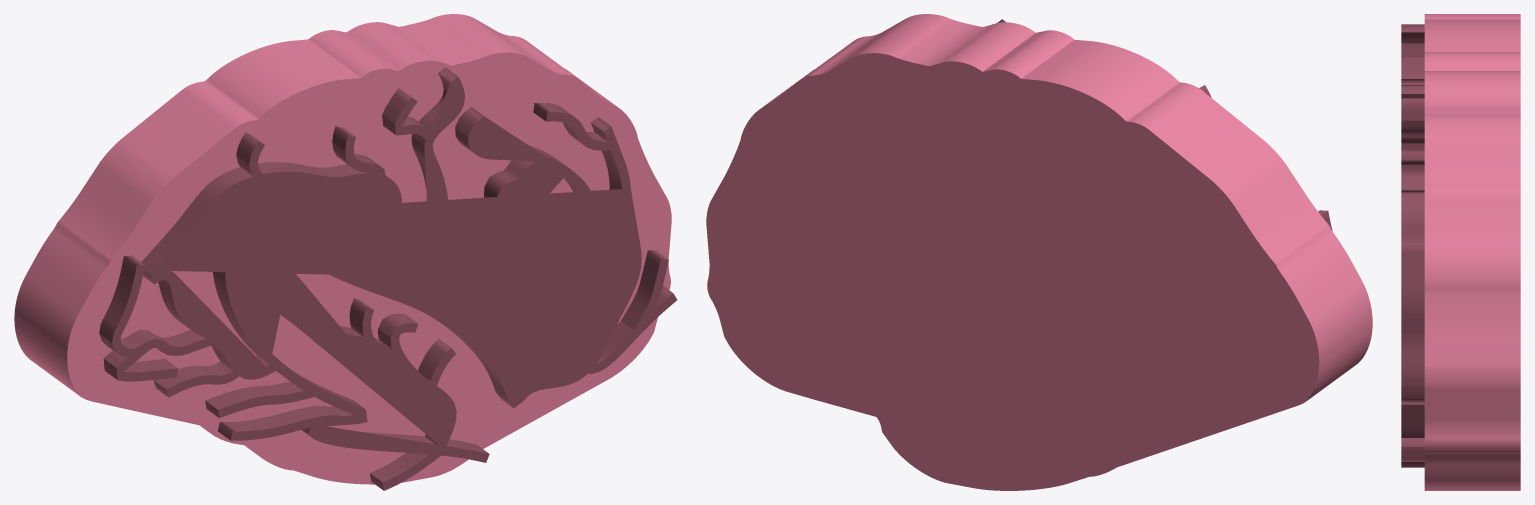
File: Brain.fbx
3 renders of one model, left to right at view 1: azimuth 30°, elevation 25°; view 2: azimuth 150°, elevation 25°; view 3: azimuth 270°, elevation 25°, orthographic. The views are drawn at different scales.
Visible parts, largest first — view 1: Brain; view 2: Brain; view 3: Brain.
Boxes of the visible parts, x1=… form: Brain: x1=14, y1=14, x2=677, y2=490; Brain: x1=706, y1=14, x2=1372, y2=490; Brain: x1=1401, y1=14, x2=1520, y2=490.
Size of the model in its own units: 397 by 264 by 74.66.
